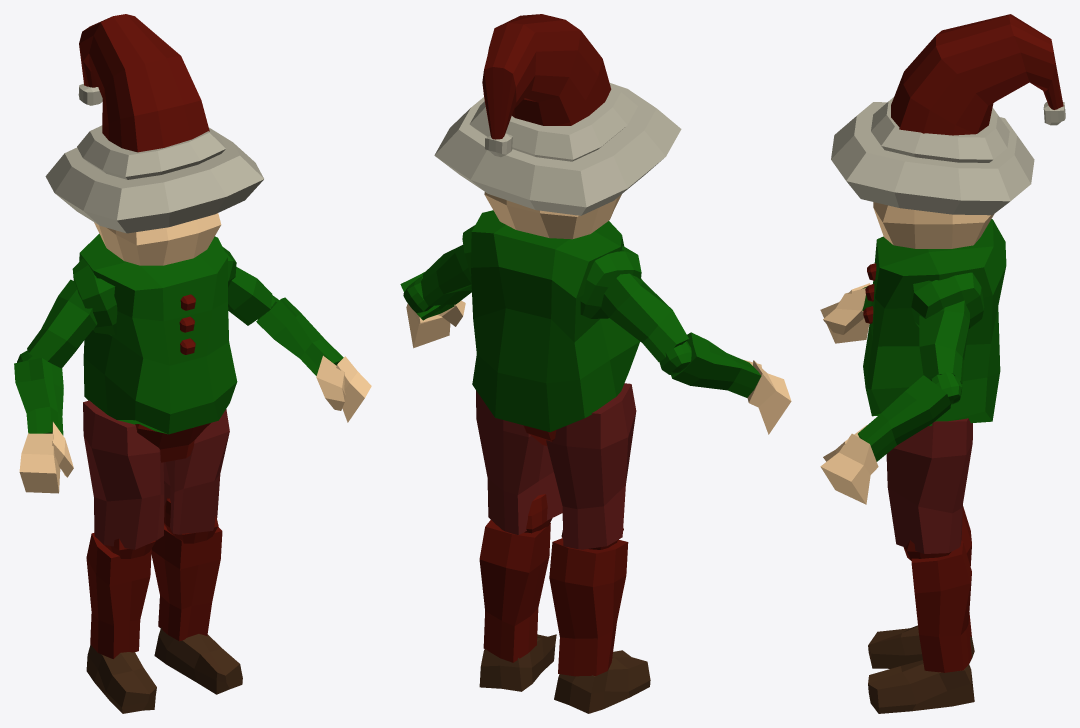
The model's file is knomeNormalnoCliptnx2themasterOFblender.fbx.
3 views of the same model, side by side, from view 1: azimuth 30°, elevation 25°; view 2: azimuth 150°, elevation 25°; view 3: azimuth 270°, elevation 25° (orthographic). The views are drawn at different scales.
Visible parts, largest first — view 1: Cube, Cube.016, Cube.020, Cube.025, Cube.001, Cube.024, Cube.004, Cube.015, Cube.014, Cube.009, Cube.028, Cube.026 (+10 smaller); view 2: Cube, Cube.020, Cube.016, Cube.025, Cube.024, Cube.001, Cube.004, Cube.015, Cube.028, Cube.026, Cube.030, Cube.014 (+7 smaller); view 3: Cube, Cube.016, Cube.020, Cube.004, Cube.001, Cube.009, Cube.015, Cube.014, Cube.002, Cube.003, Cube.008, Cube.010 (+5 smaller).
Boxes of the visible parts, x1,y1,x2,y2 form: Cube: (79, 233, 237, 434); Cube.016: (79, 14, 209, 152); Cube.020: (45, 128, 263, 233); Cube.025: (83, 400, 164, 549); Cube.001: (151, 525, 222, 641); Cube.024: (86, 533, 151, 658); Cube.004: (163, 409, 229, 534); Cube.015: (77, 125, 225, 179); Cube.014: (94, 213, 221, 265); Cube.009: (154, 627, 242, 694); Cube.028: (27, 279, 97, 368); Cube.026: (86, 645, 156, 713); Cube: (471, 210, 640, 432); Cube.020: (434, 83, 681, 215); Cube.016: (482, 14, 611, 139); Cube.025: (546, 383, 636, 549); Cube.024: (549, 538, 628, 676); Cube.001: (479, 520, 550, 662); Cube.004: (476, 390, 562, 534); Cube.015: (469, 85, 637, 161); Cube.028: (600, 273, 688, 361); Cube.026: (554, 650, 650, 713); Cube.030: (671, 332, 761, 397); Cube.014: (484, 192, 621, 239); Cube: (863, 219, 1006, 426); Cube.016: (891, 14, 1063, 135); Cube.020: (831, 102, 1034, 215); Cube.004: (886, 418, 972, 553); Cube.001: (911, 540, 971, 672); Cube.009: (868, 660, 974, 713); Cube.015: (871, 97, 1009, 162); Cube.014: (873, 202, 994, 248); Cube.002: (858, 375, 950, 461); Cube.003: (919, 300, 969, 383); Cube.008: (910, 272, 984, 328); Cube.010: (820, 433, 878, 504).
Size of the model in its own units: 76.84 by 133 by 44.54.
